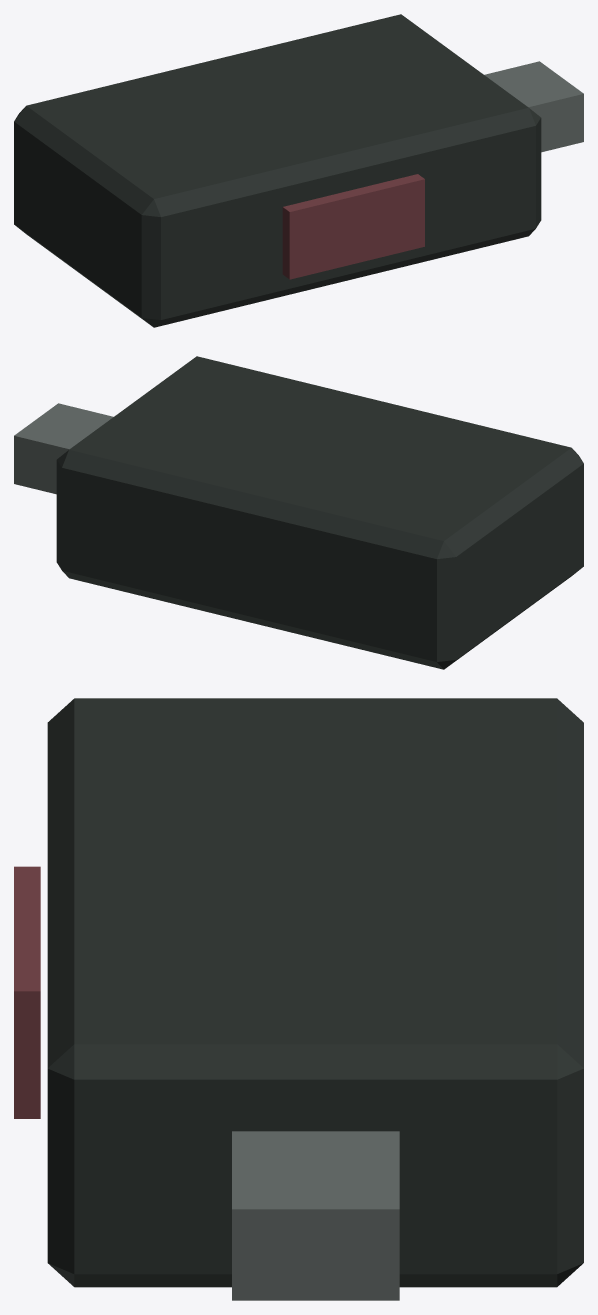
File: confidential_drive.fbx
3 views of the same model, one above another, from view 1: azimuth 30°, elevation 25°; view 2: azimuth 150°, elevation 25°; view 3: azimuth 270°, elevation 25° (orthographic). The views are drawn at different scales.
Parts seen in each view (by area): view 1: confidential_drive; view 2: confidential_drive; view 3: confidential_drive.
Part boxes in pixels (<box>): confidential_drive: <box>14,14,583,327</box>; confidential_drive: <box>14,356,583,669</box>; confidential_drive: <box>14,698,583,1300</box>.
Bounding box in the file's own units: 15.75 × 4 × 8.5.
